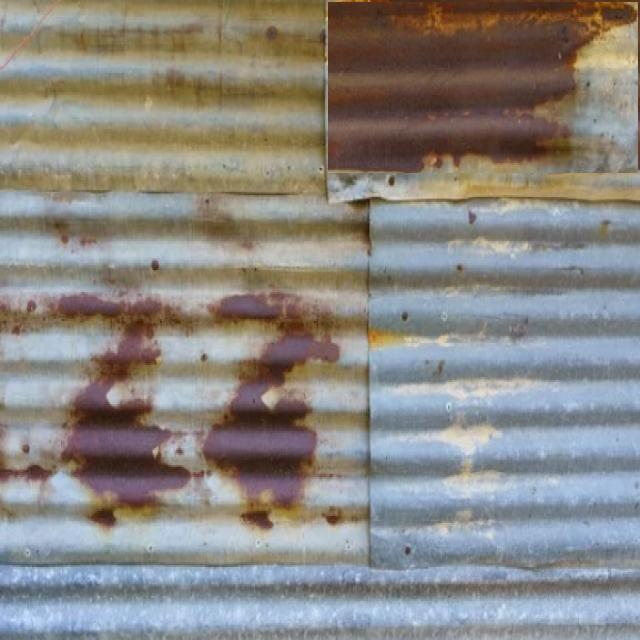Corrosion: (329, 0, 618, 170), (62, 321, 190, 508), (236, 329, 340, 508), (204, 383, 270, 467), (51, 292, 170, 317), (218, 295, 282, 318)
